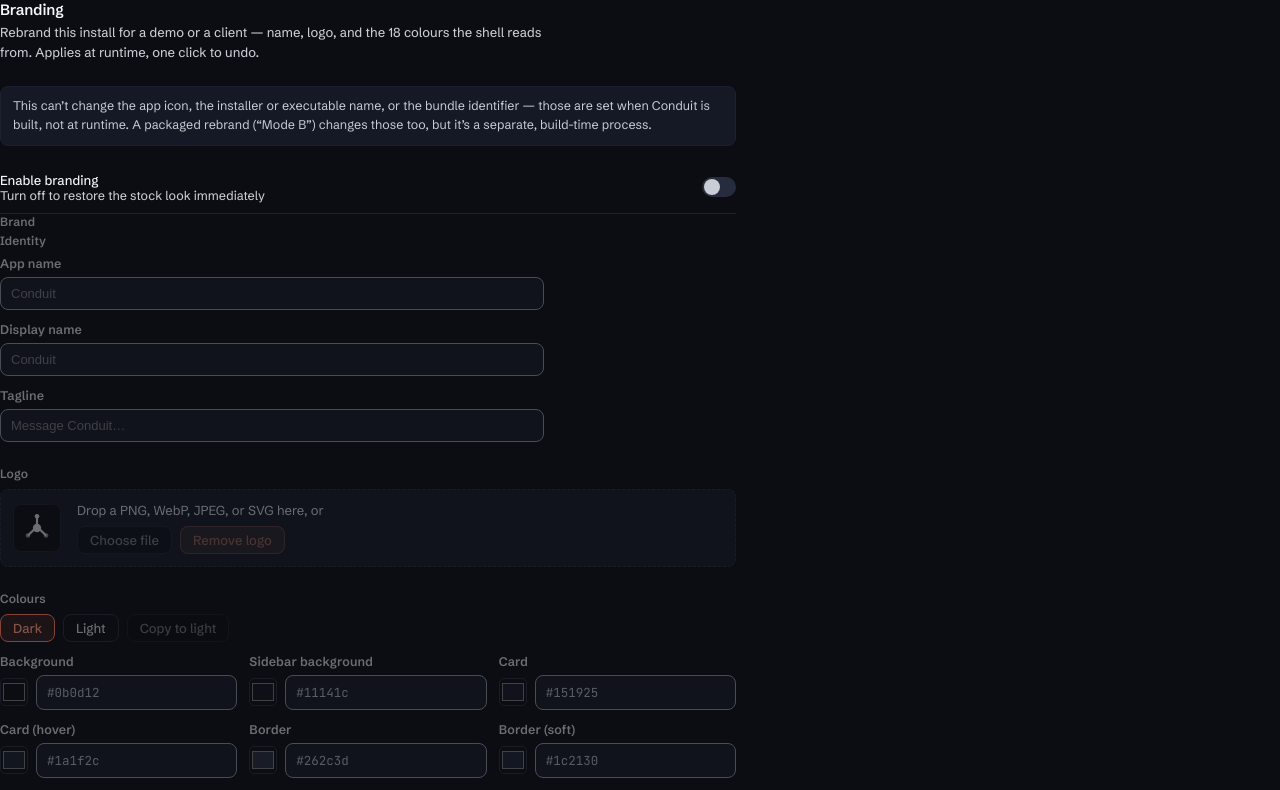
Test: the enable toggle › turning on persists first, so an existing brand.md fills the form instead of the seeds
Click the switch named "Enable branding".
click(719, 187)  # box [702,177,736,197]
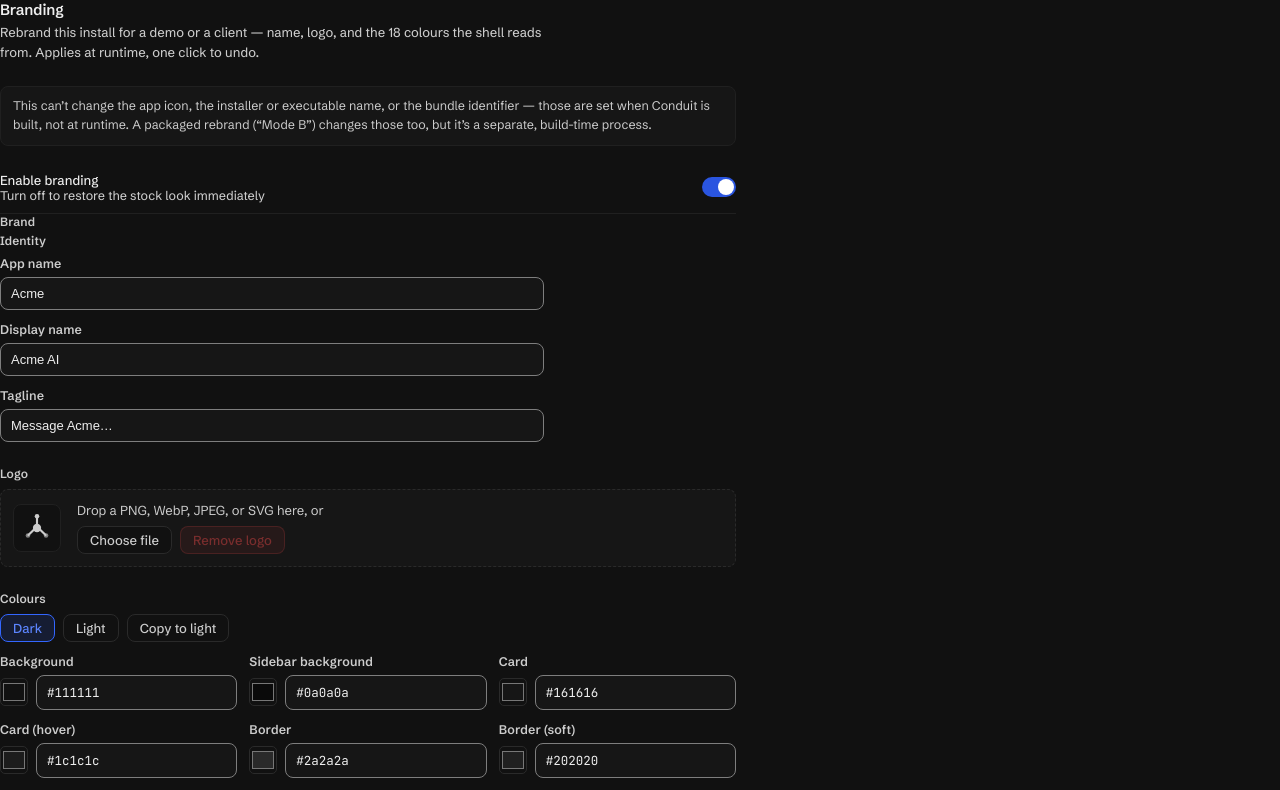
Expected: the field labelled "App name" holds "Acme", [0,276,544,310]
